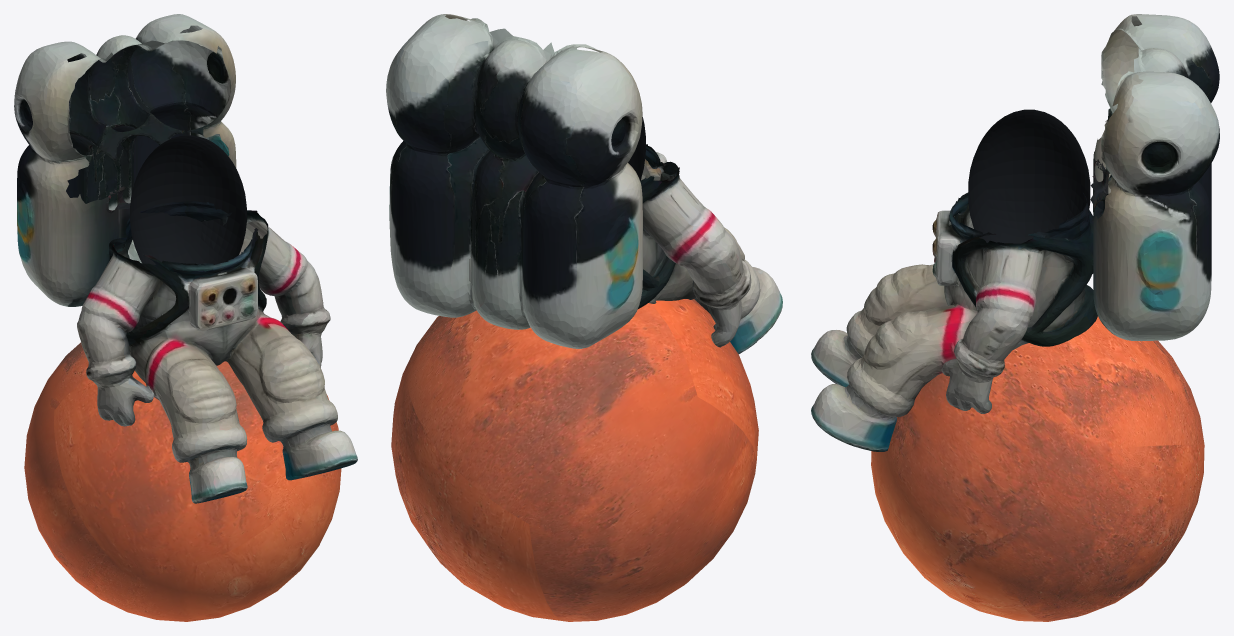
The model's file is astronaut_body_mars.glb.
The picture shows the model from 3 angles, left to right: view 1: azimuth 30°, elevation 25°; view 2: azimuth 150°, elevation 25°; view 3: azimuth 270°, elevation 25°; orthographic projection. The views are drawn at different scales.
Parts seen in each view (by area): view 1: Moon_Cube003; view 2: Moon_Cube003; view 3: Moon_Cube003.
Part boxes in pixels (bbox=[...]): Moon_Cube003: bbox=[14, 14, 357, 621]; Moon_Cube003: bbox=[386, 14, 782, 621]; Moon_Cube003: bbox=[811, 14, 1219, 621].
Size of the model in its own units: 1.07 by 1.98 by 1.32.
Materials: 3 (2 with a texture image).
